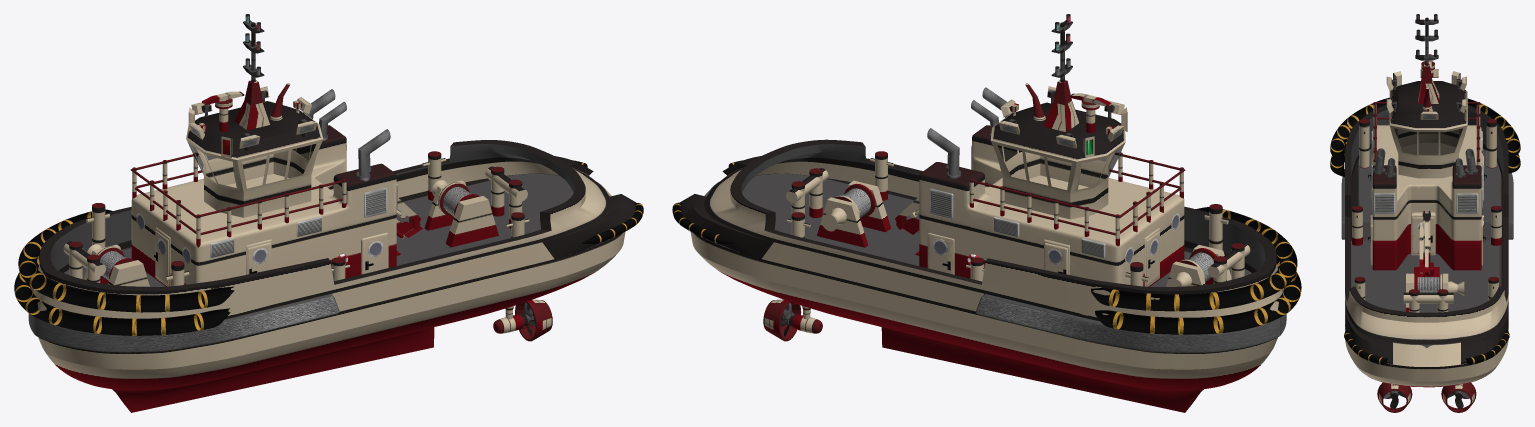
File: tug.glb
3 renders of one model, left to right at view 1: azimuth 30°, elevation 25°; view 2: azimuth 150°, elevation 25°; view 3: azimuth 270°, elevation 25°, orthographic. The views are drawn at different scales.
Visible parts, largest first — view 1: Object_4, Object_3, Object_37, Object_33, Object_2, Object_31, Object_13, Object_10; view 2: Object_4, Object_3, Object_37, Object_33, Object_2, Object_31, Object_13, Object_10; view 3: Object_4, Object_3, Object_37, Object_33, Object_6, Object_31, Object_2, Object_10.
Boxes of the visible parts, box(x1,y1,x2,y2) form: Object_4: box(33, 80, 625, 412); Object_3: box(39, 14, 635, 336); Object_37: box(14, 160, 643, 335); Object_33: box(28, 89, 390, 352); Object_2: box(14, 162, 643, 335); Object_31: box(210, 184, 397, 257); Object_13: box(136, 213, 383, 264); Object_10: box(100, 186, 470, 280); Object_4: box(690, 80, 1282, 412); Object_3: box(680, 14, 1276, 336); Object_37: box(672, 160, 1301, 334); Object_33: box(927, 87, 1286, 352); Object_2: box(673, 162, 1300, 334); Object_31: box(929, 145, 1105, 258); Object_13: box(932, 213, 1179, 264); Object_10: box(843, 188, 1213, 282); Object_4: box(1345, 54, 1508, 412); Object_3: box(1345, 14, 1508, 408); Object_37: box(1330, 97, 1520, 364); Object_33: box(1341, 148, 1513, 239); Object_6: box(1394, 128, 1462, 155); Object_31: box(1371, 131, 1482, 213); Object_2: box(1330, 104, 1520, 364); Object_10: box(1417, 277, 1439, 292).
Size of the model in its own units: 1 by 0.6048 by 0.3486.
17 materials, 16 textured.
